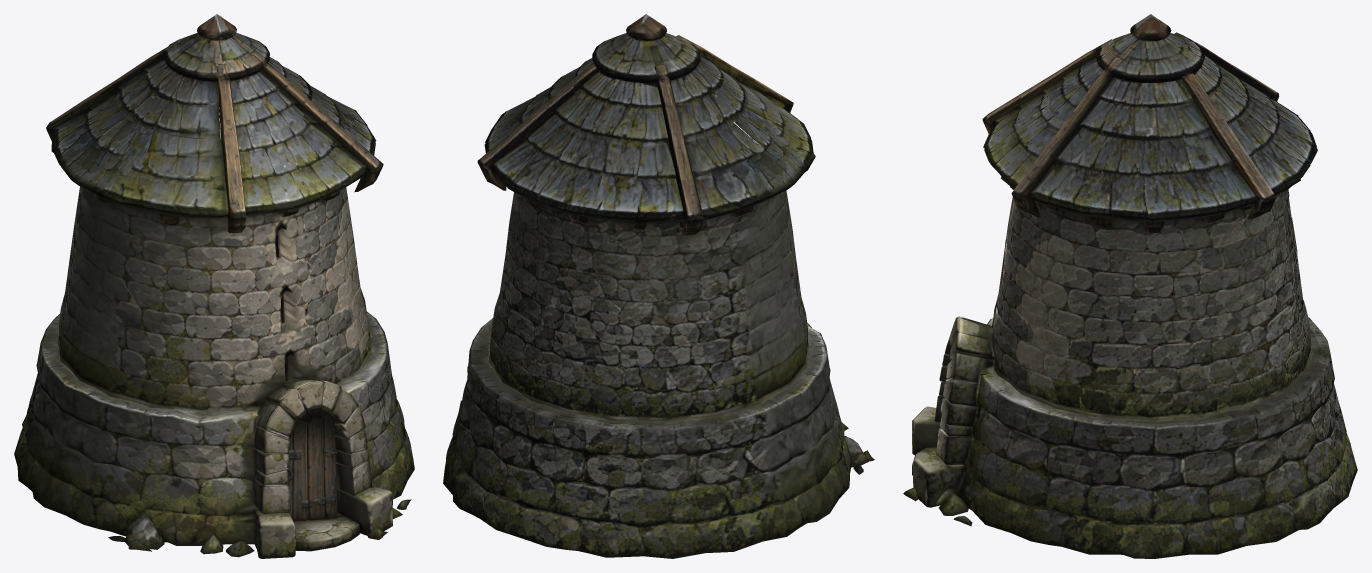
Rendered from act1-a02-4-ossuary-tower.glb.
3 renders of one model, left to right at view 1: azimuth 30°, elevation 25°; view 2: azimuth 150°, elevation 25°; view 3: azimuth 270°, elevation 25°, orthographic. The views are drawn at different scales.
Visible parts, largest first — view 1: act1-a02-4-ossuary-tower; view 2: act1-a02-4-ossuary-tower; view 3: act1-a02-4-ossuary-tower.
Part boxes in pixels (<box>): act1-a02-4-ossuary-tower: <box>14,14,414,558</box>; act1-a02-4-ossuary-tower: <box>443,14,874,558</box>; act1-a02-4-ossuary-tower: <box>903,14,1357,558</box>.
Bounding box in the file's own units: 6.33 × 7.8 × 6.99.
Materials: 1 (1 with a texture image).
